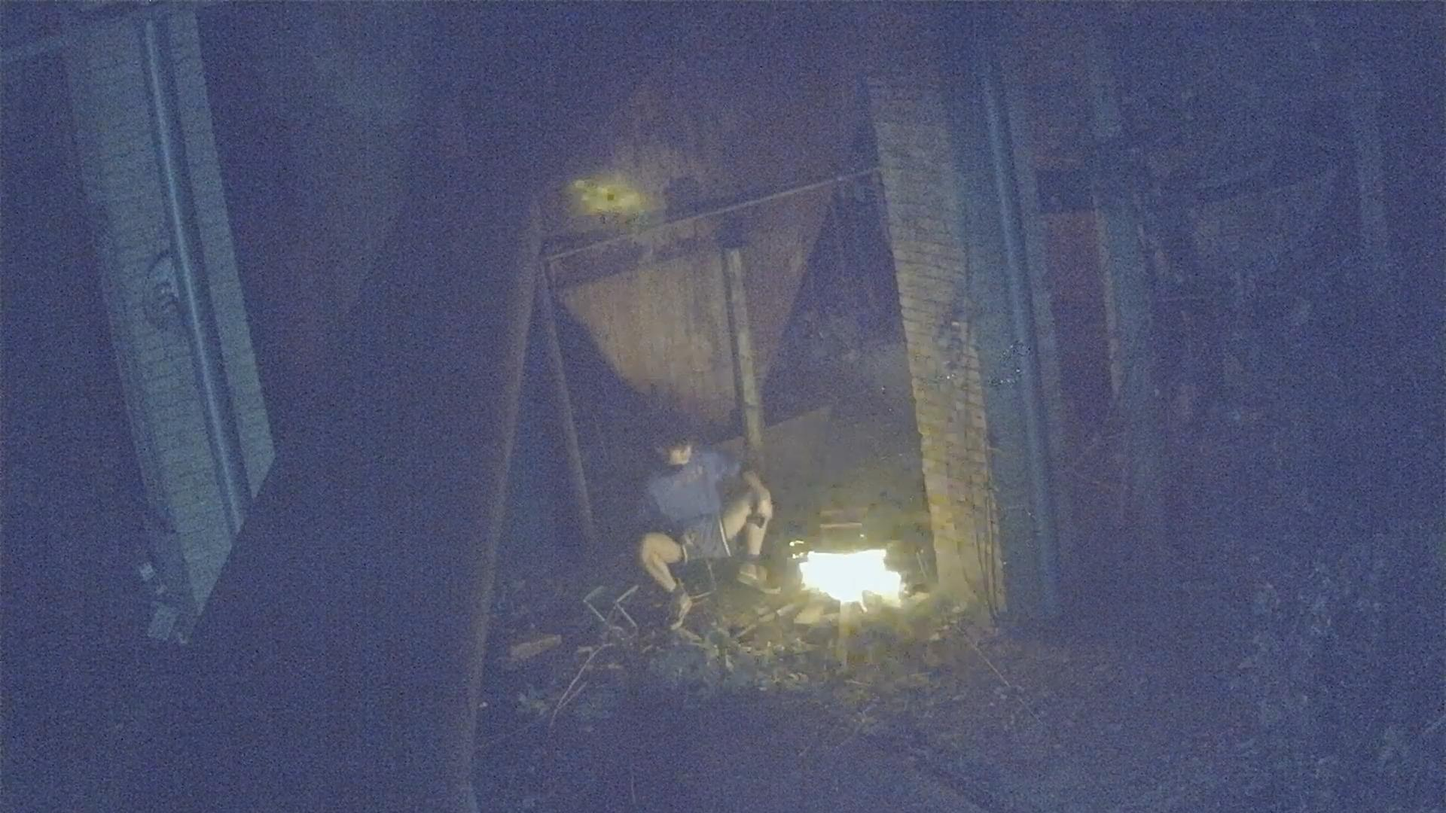fire: (799, 550, 901, 604)
